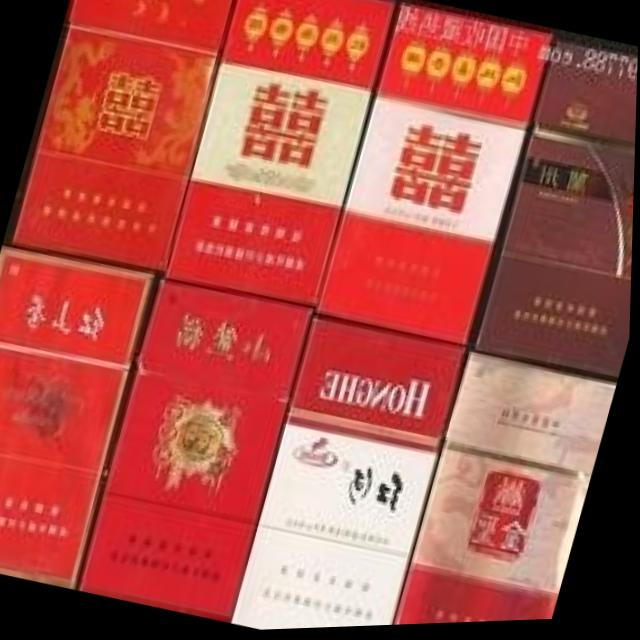box: (318, 7, 554, 351), (83, 278, 315, 625), (235, 317, 467, 632), (165, 0, 395, 309), (13, 0, 236, 275), (400, 355, 619, 628), (477, 43, 638, 382), (0, 245, 156, 590)
